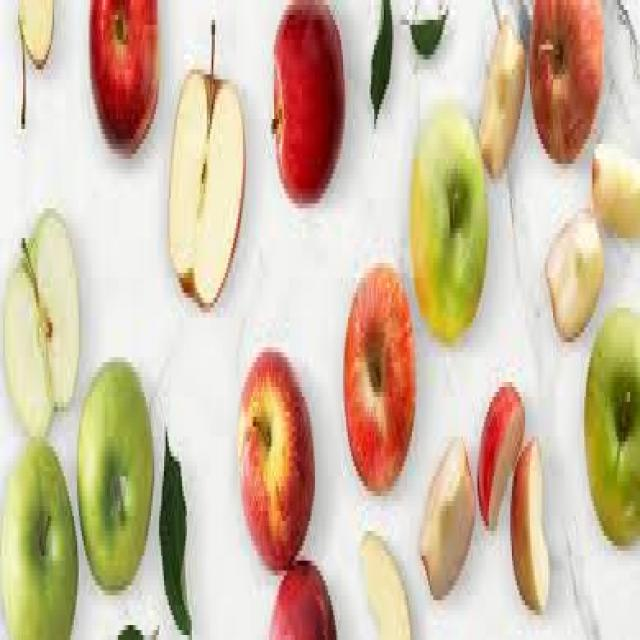Apple: (167, 60, 244, 308), (78, 360, 154, 589), (4, 211, 79, 440), (412, 108, 486, 336), (345, 267, 416, 494), (238, 352, 316, 554), (0, 440, 78, 640), (271, 5, 345, 198), (582, 302, 640, 545), (524, 0, 602, 149), (87, 0, 158, 144), (421, 440, 474, 589), (546, 207, 603, 332), (513, 430, 552, 610), (476, 369, 520, 524), (482, 22, 524, 181), (359, 528, 409, 640), (268, 563, 338, 640), (590, 142, 640, 235), (14, 0, 56, 67)
